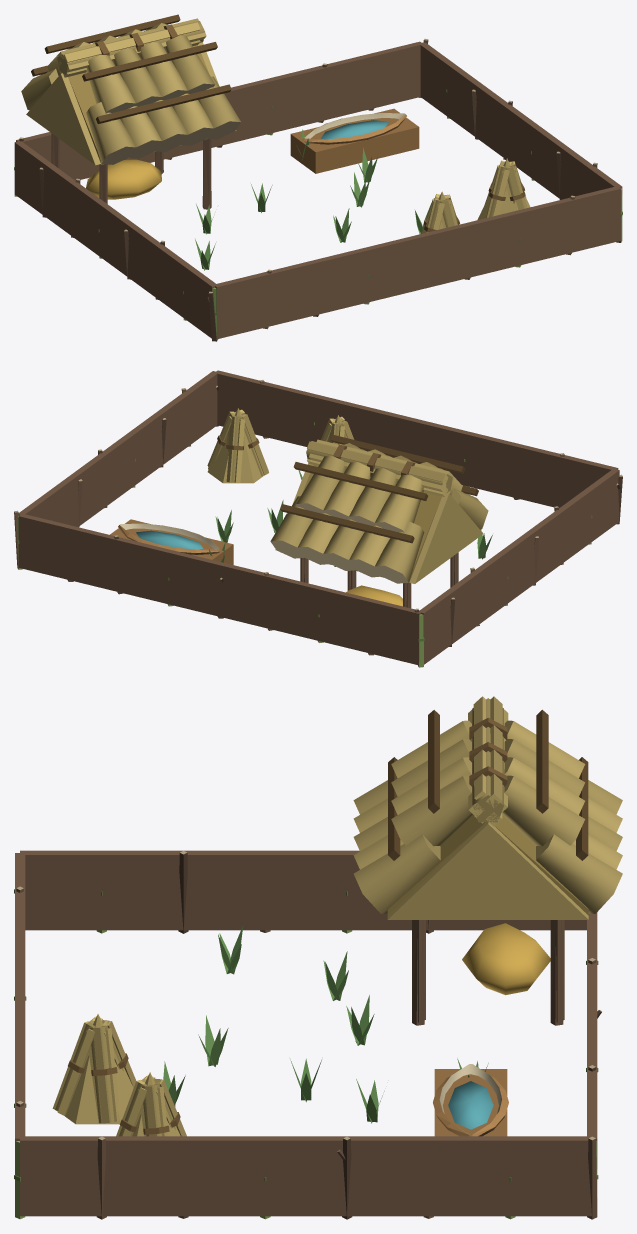
The model's file is pasture.glb.
3 renders of one model, top to bottom at view 1: azimuth 30°, elevation 25°; view 2: azimuth 150°, elevation 25°; view 3: azimuth 270°, elevation 25°, orthographic. The views are drawn at different scales.
Visible parts, largest first — view 1: body__far, body_nl, body, body_nh; view 2: body__far, body_nl, body, body_nh; view 3: body__far, body_nl, body, body_nh.
Boxes of the visible parts, <box> form: body__far: <box>14,41,622,339</box>; body_nl: <box>14,14,622,341</box>; body: <box>303,113,526,233</box>; body_nh: <box>195,129,431,270</box>; body__far: <box>18,370,619,665</box>; body_nl: <box>14,380,622,667</box>; body: <box>118,409,354,554</box>; body_nh: <box>209,470,492,566</box>; body__far: <box>15,822,597,1216</box>; body_nl: <box>14,696,622,1219</box>; body: <box>52,1016,508,1136</box>; body_nh: <box>163,925,488,1123</box>.
Bounding box in the file's own units: 4.02 × 1.56 × 3.51.
